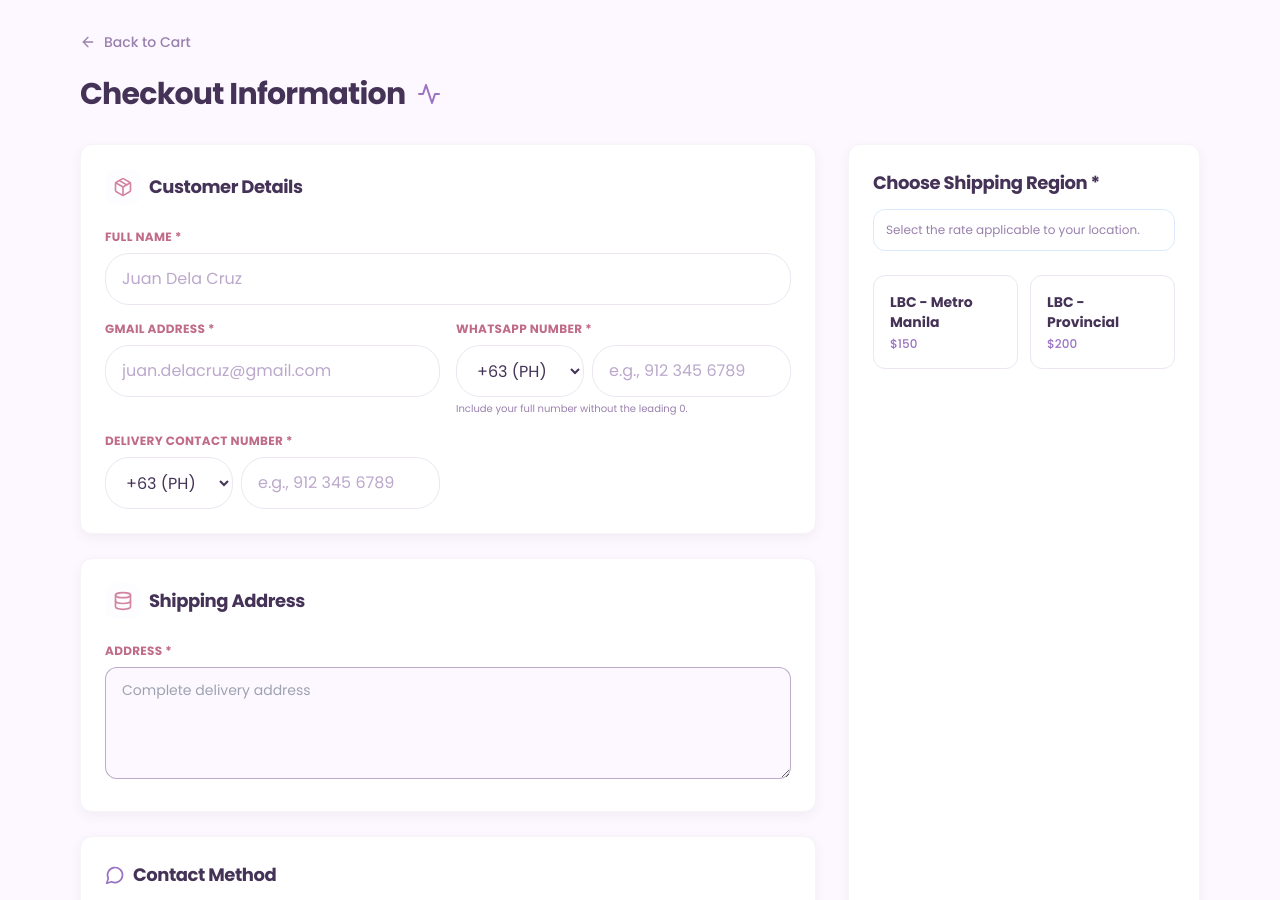
Scenario: Checkout component › form validation › enables proceed button when all fields are filled
Type "Test User" into the field with placeholder "Juan Dela Cruz" at (448, 279), box [105,253,791,305]
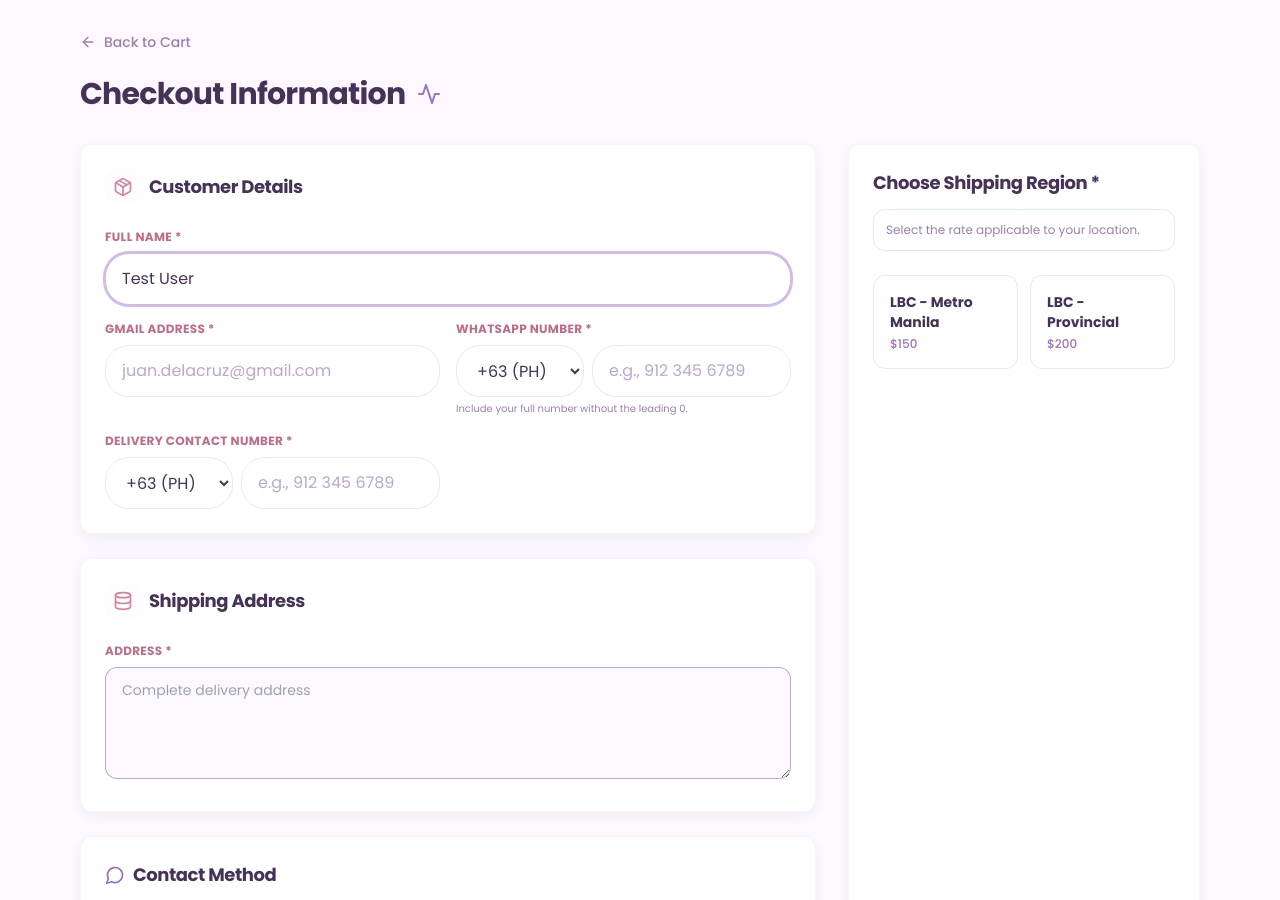
Type "test@gmail.com" into the field with placeholder "juan.delacruz@gmail.com" at (272, 371), box [105,345,440,397]
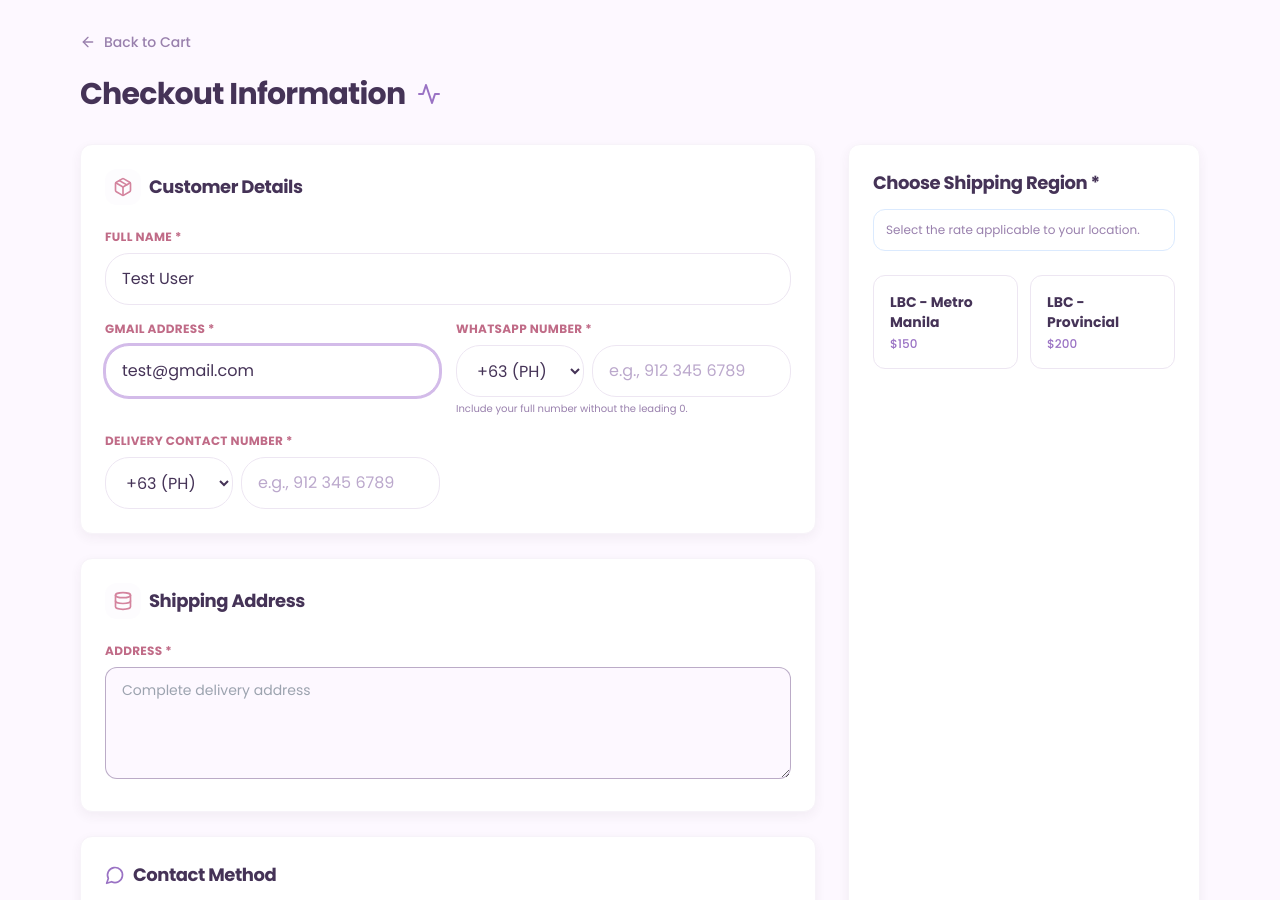
Type "9171234567" into the field with placeholder "e.g., 912 345 6789" below "WhatsApp Number *" at (692, 371), box [592,345,791,397]
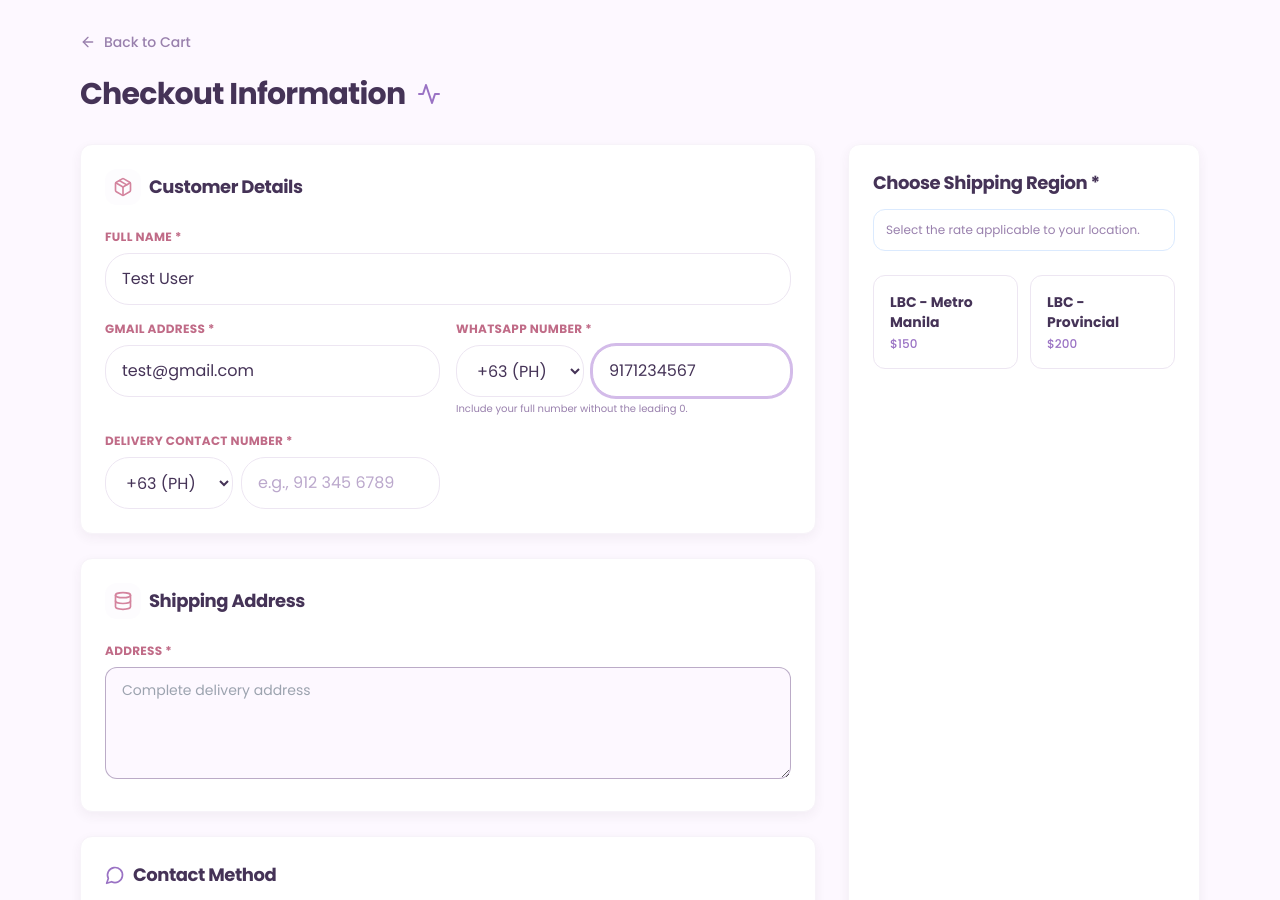
Type "9187654321" into the field with placeholder "e.g., 912 345 6789" at (340, 483), box [241,457,440,509]
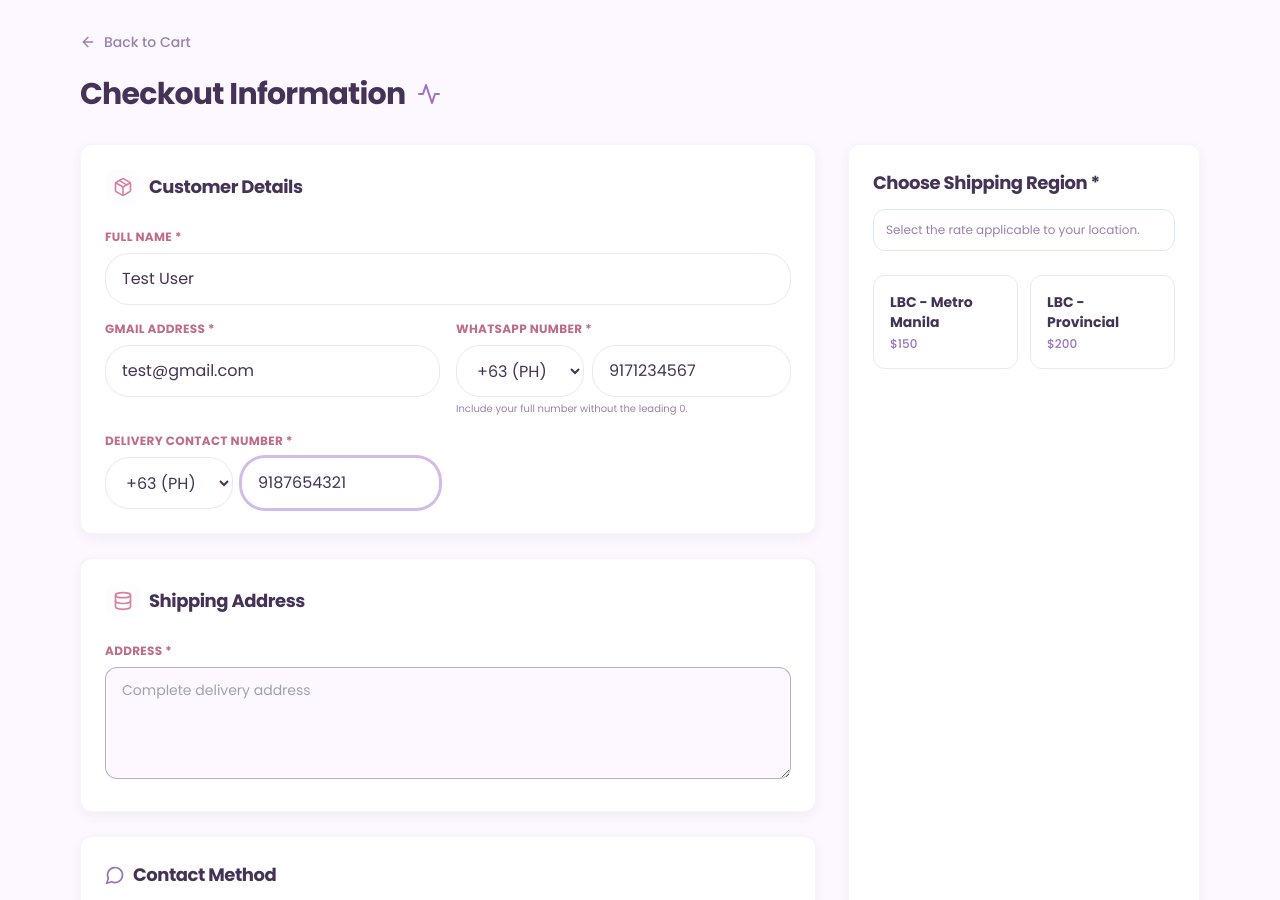
Type "123 Main St, Makati City, Metro Manila, 1200" into the text box with placeholder "Complete delivery address" at (448, 723), box [105,667,791,779]
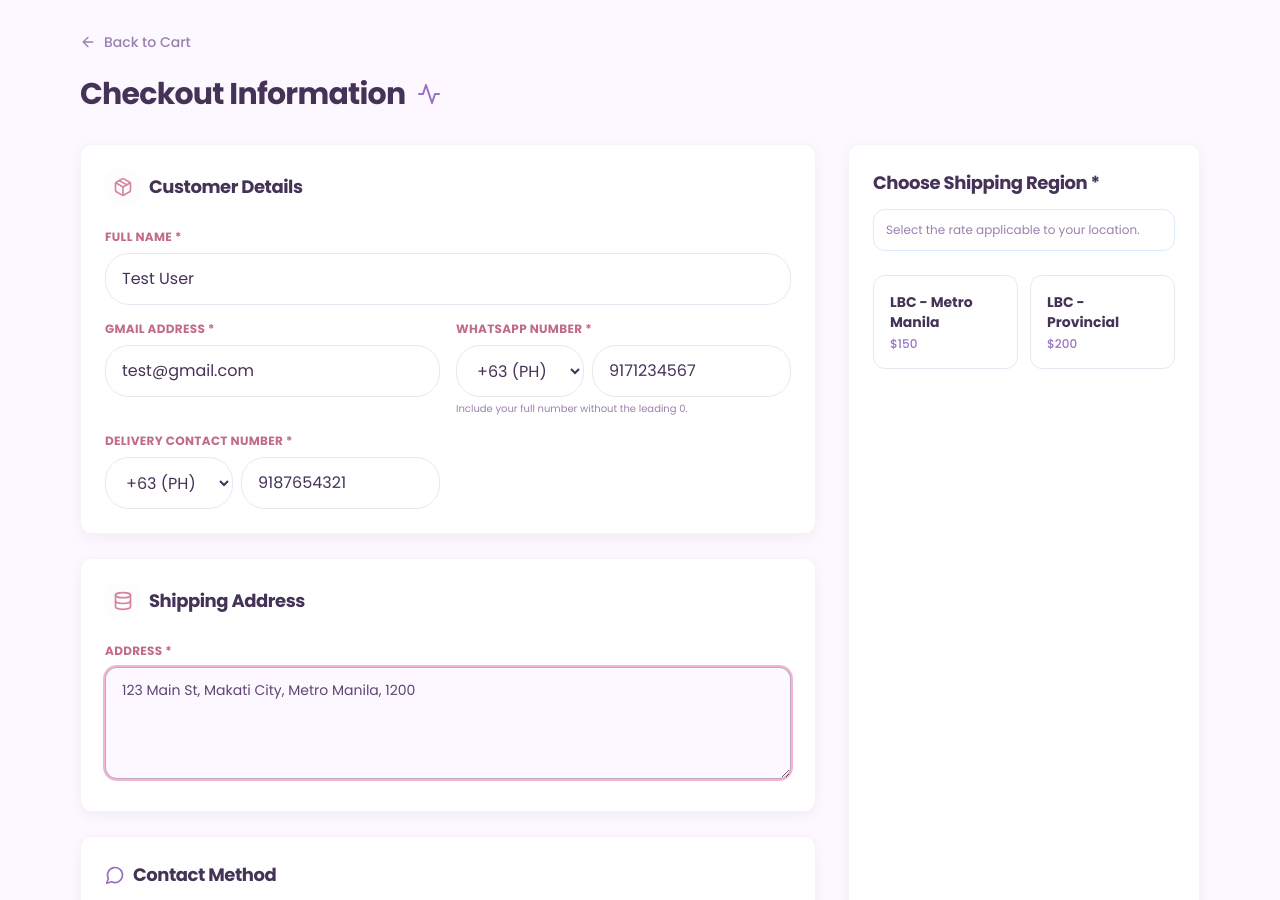
Click the text "LBC - Metro Manila" at (931, 312), box [890,292,973,332]
(page scrolled)
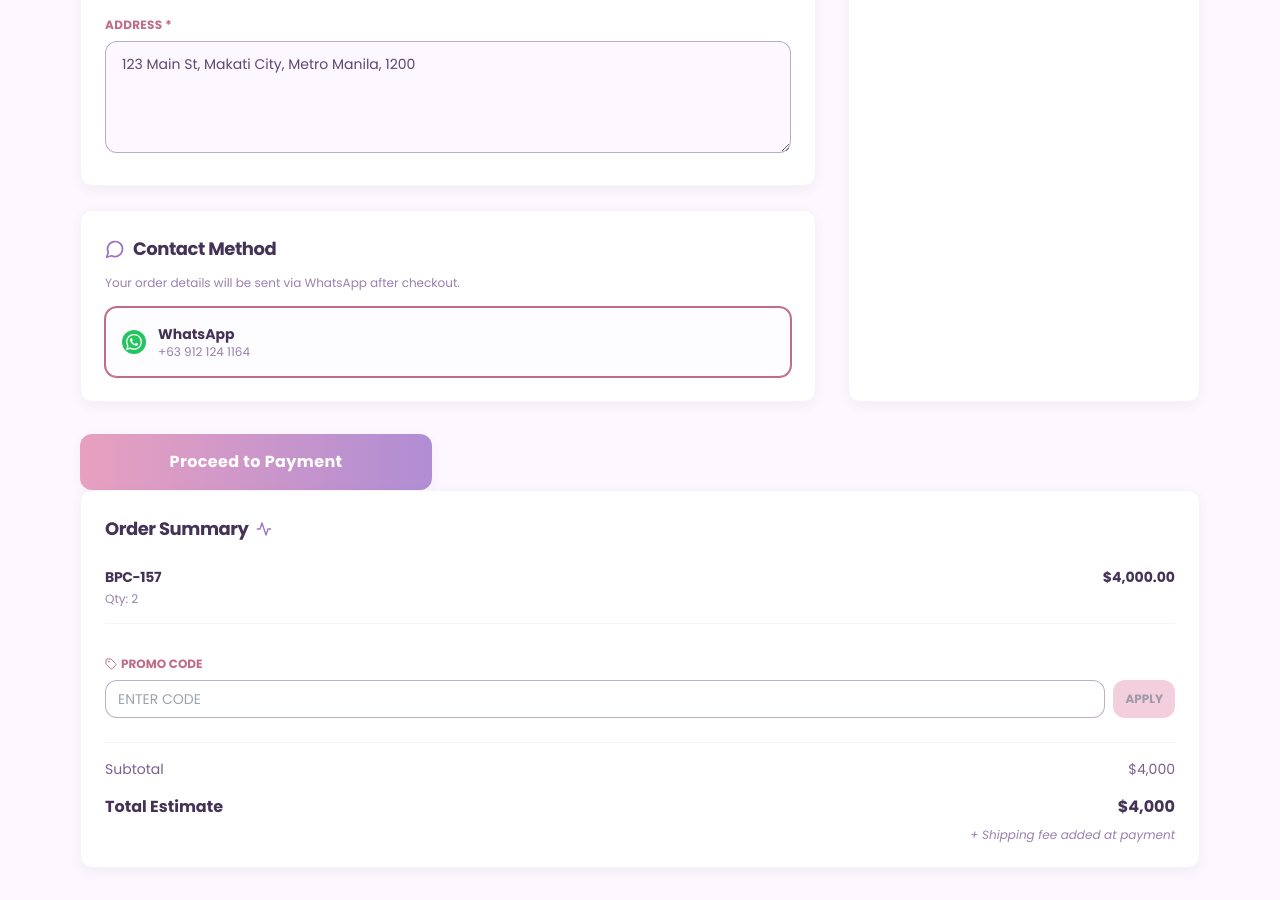
Now the button "Proceed to Payment" is enabled, box [80,434,432,490]
